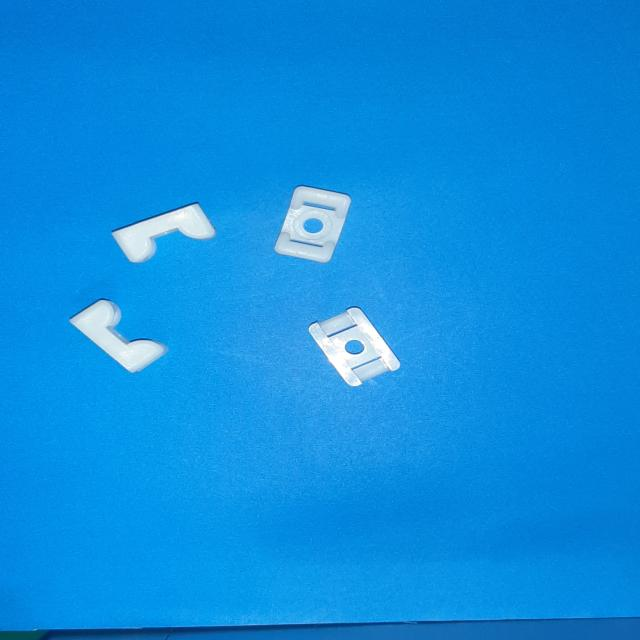false_1: (308, 308, 400, 386)
false_2: (70, 299, 168, 372), (112, 202, 217, 262)
true: (275, 185, 350, 262)
true_center: (303, 218, 323, 233)
